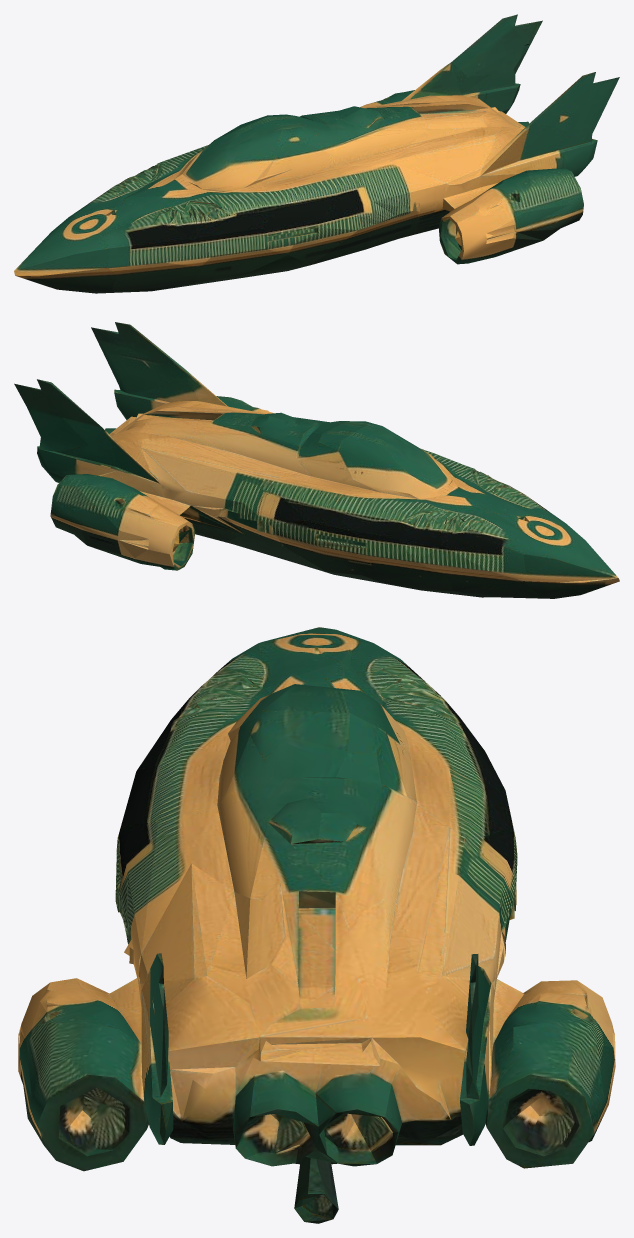
File: nation-s-scout.glb
The picture shows the model from 3 angles, top to bottom: view 1: azimuth 30°, elevation 25°; view 2: azimuth 150°, elevation 25°; view 3: azimuth 270°, elevation 25°; orthographic projection. The views are drawn at different scales.
Bounding box in the file's own units: 1.9 × 0.453 × 0.8648.
Materials: 1 (1 with a texture image).
